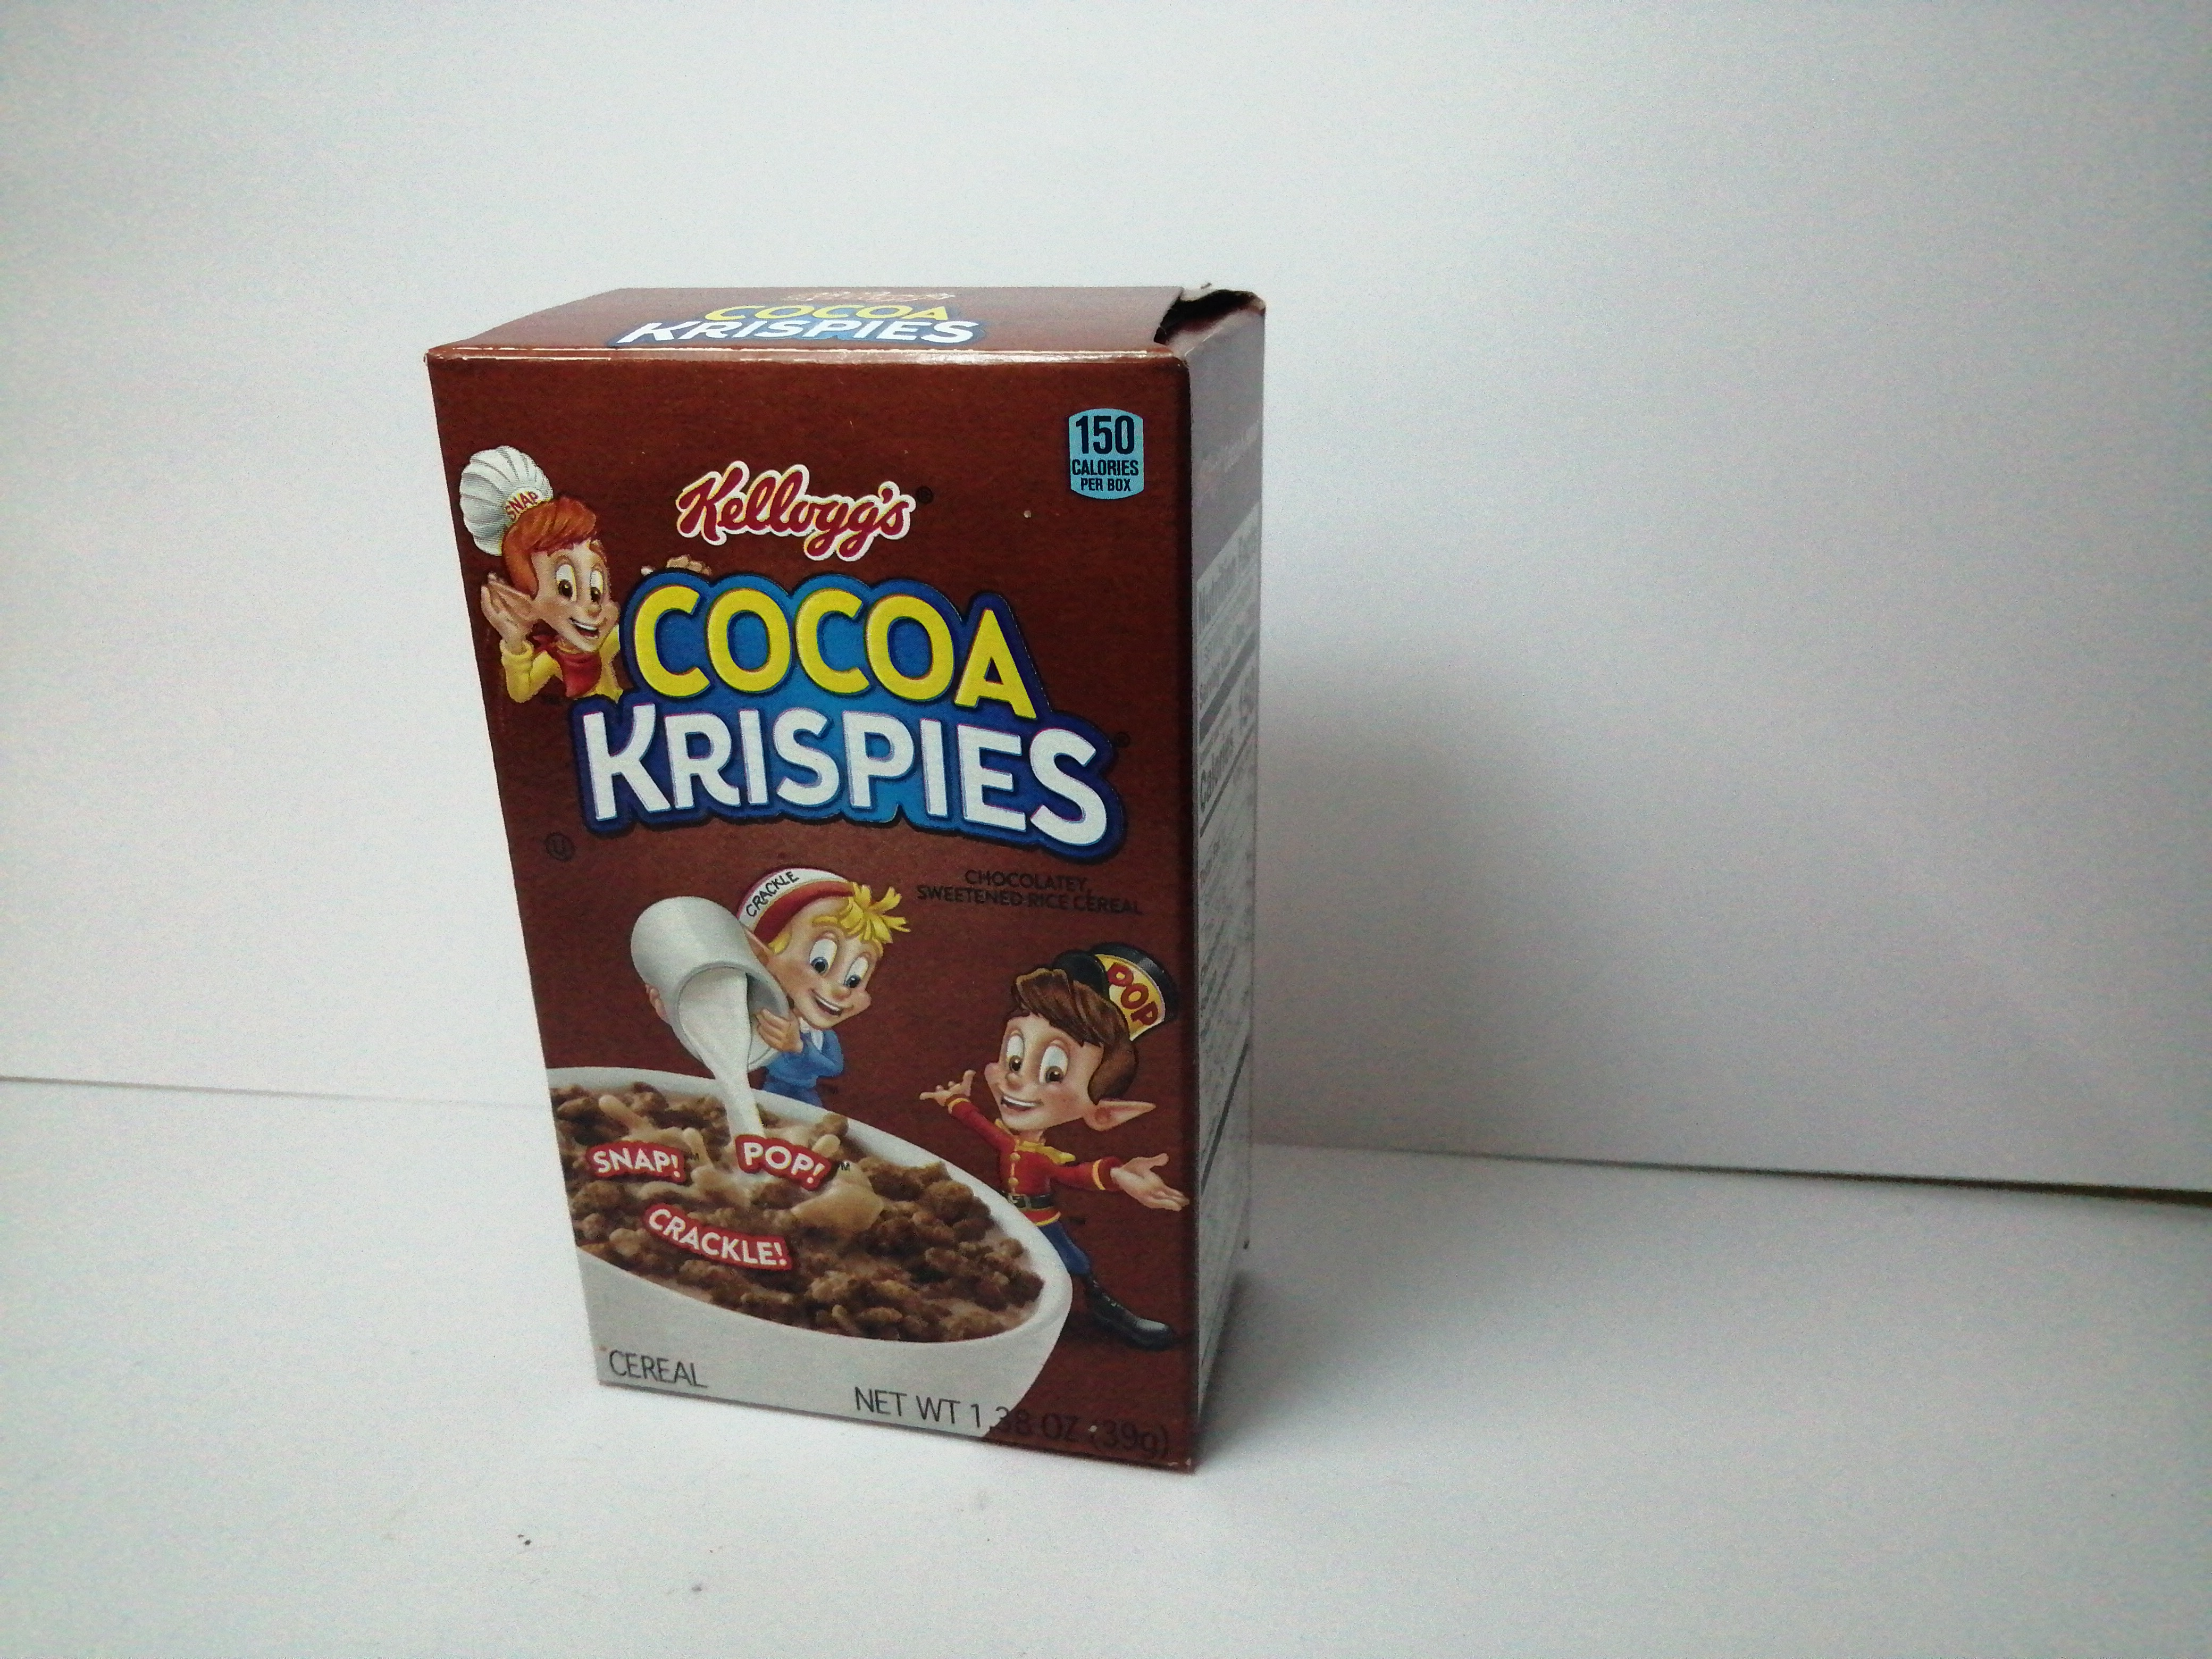cereal chocolate: (415, 261, 1306, 1474)
